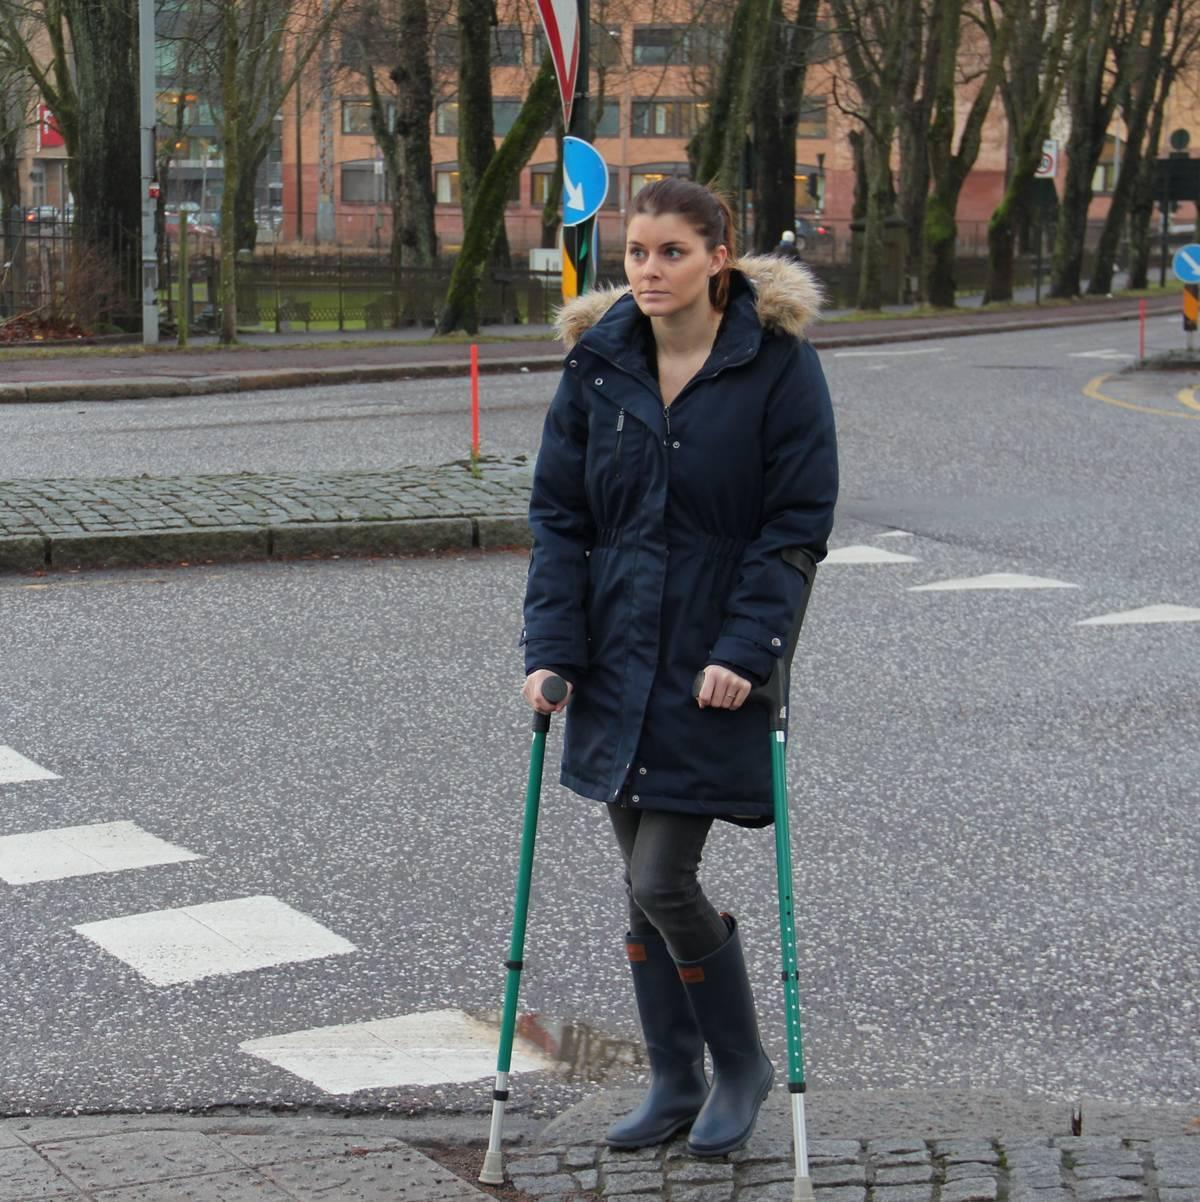crutches: (477, 180, 838, 1202)
